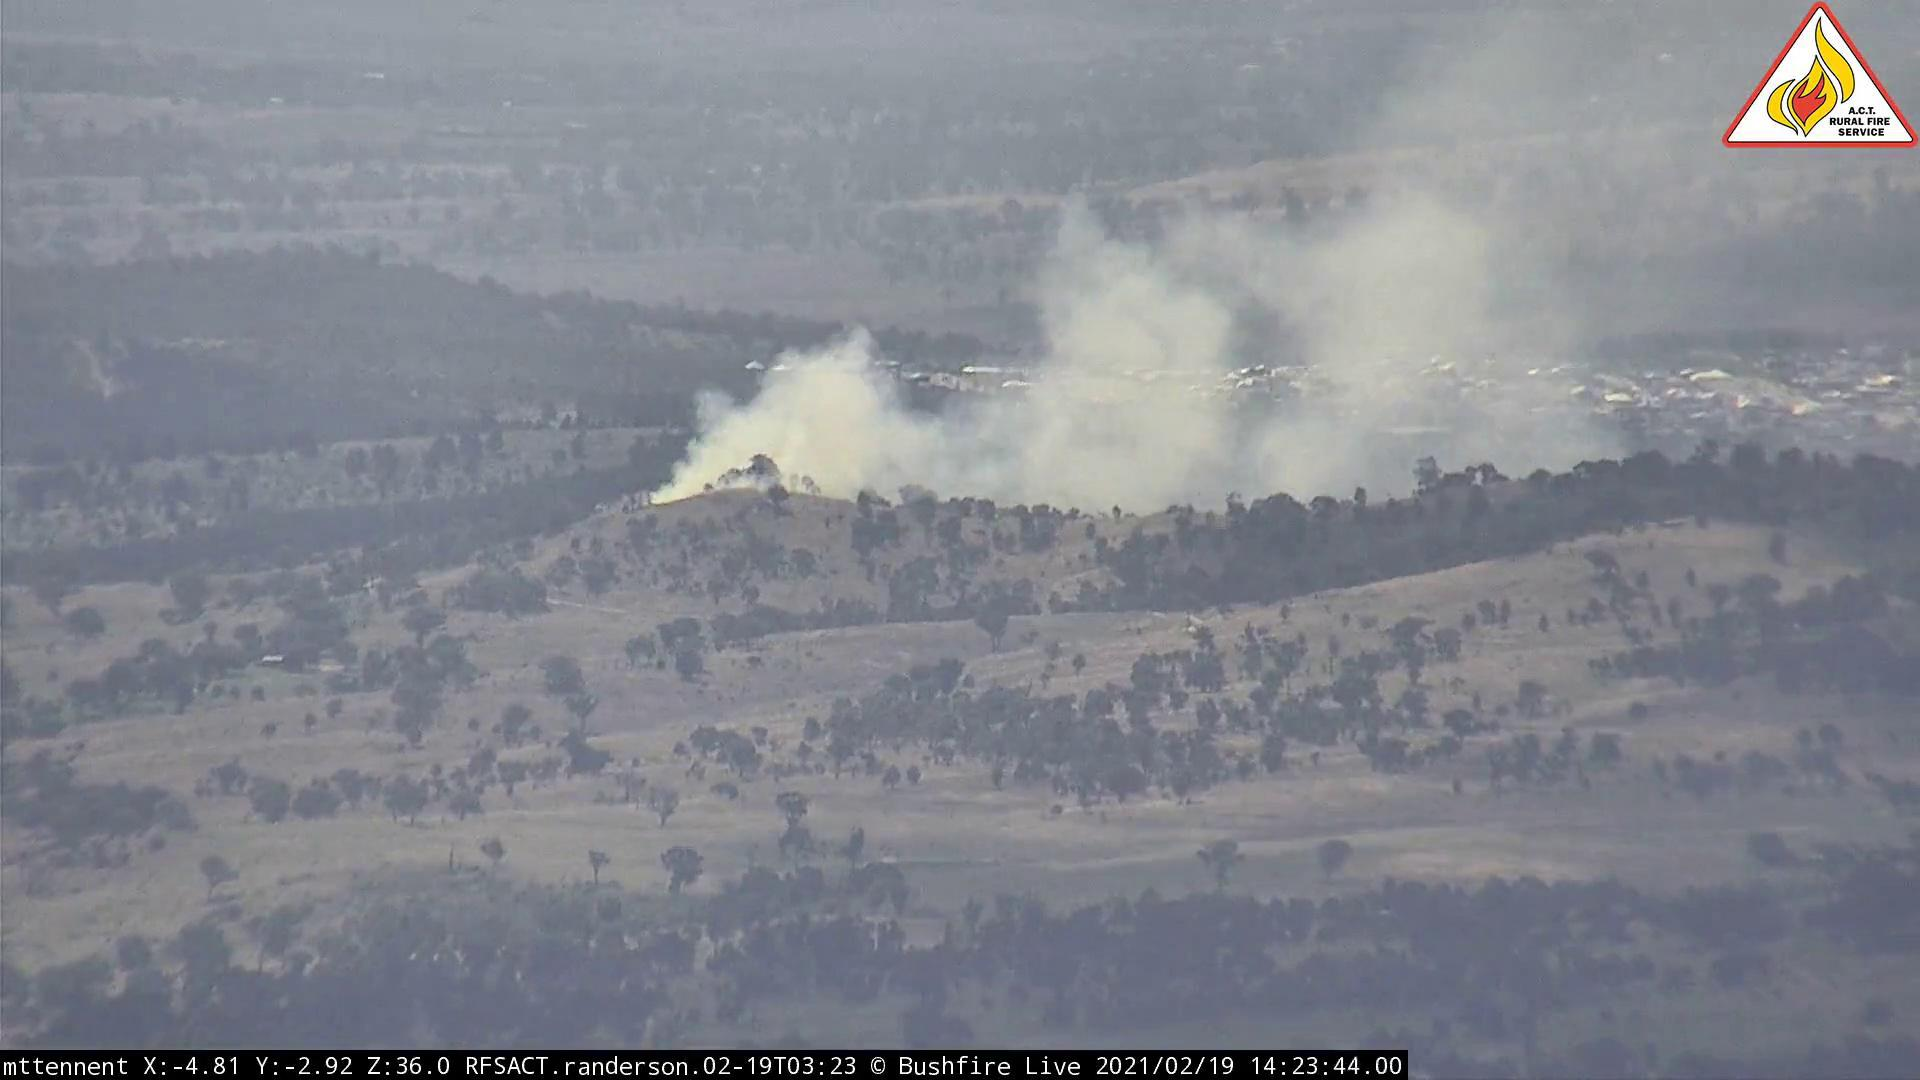instance_salient_object: (626, 38, 1695, 524)
